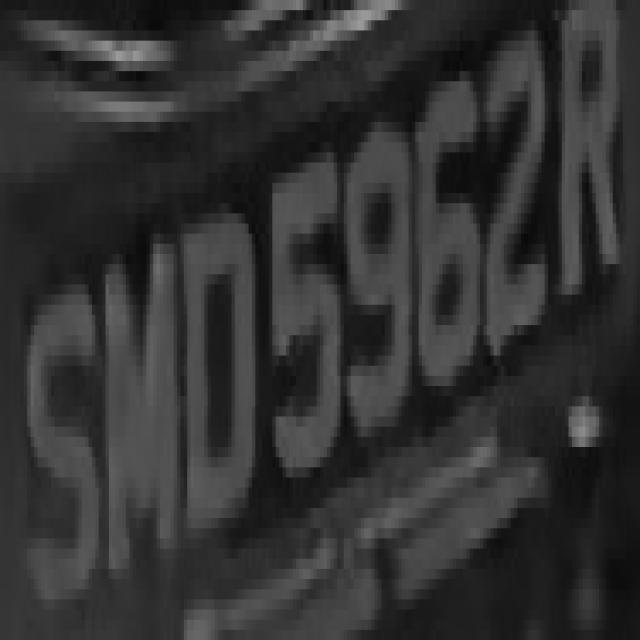2: (473, 11, 552, 407)
5: (256, 112, 340, 528)
6: (402, 81, 483, 437)
9: (327, 101, 422, 436)
D: (180, 183, 252, 569)
M: (99, 234, 187, 589)
R: (555, 0, 623, 345)
S: (7, 254, 102, 630)
